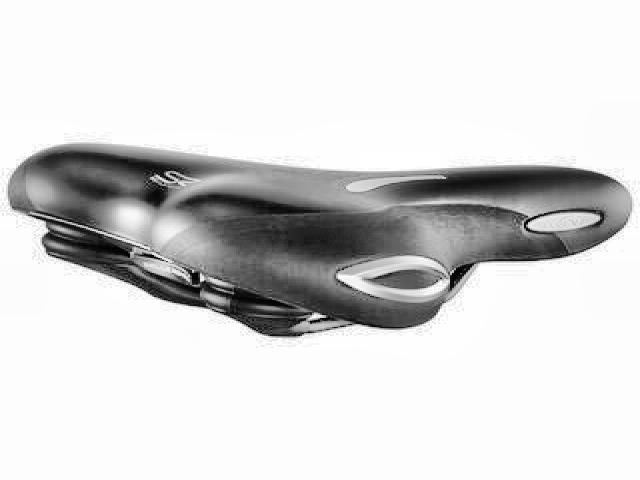saddle: (3, 134, 635, 345)
